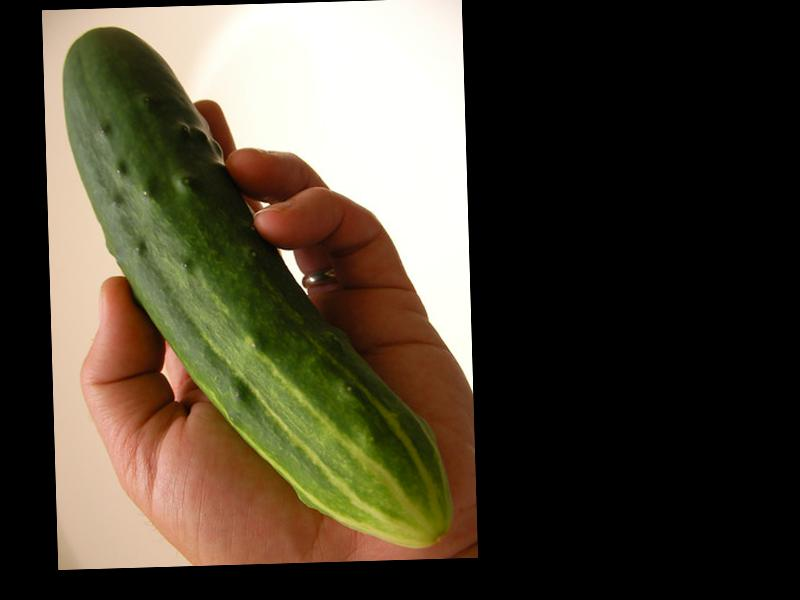Cucumber: (62, 17, 453, 555)
